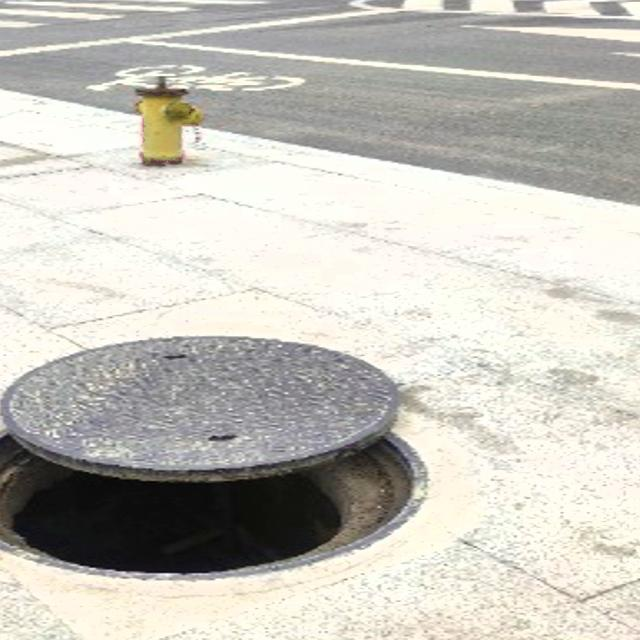uncovered: (0, 334, 428, 580)
